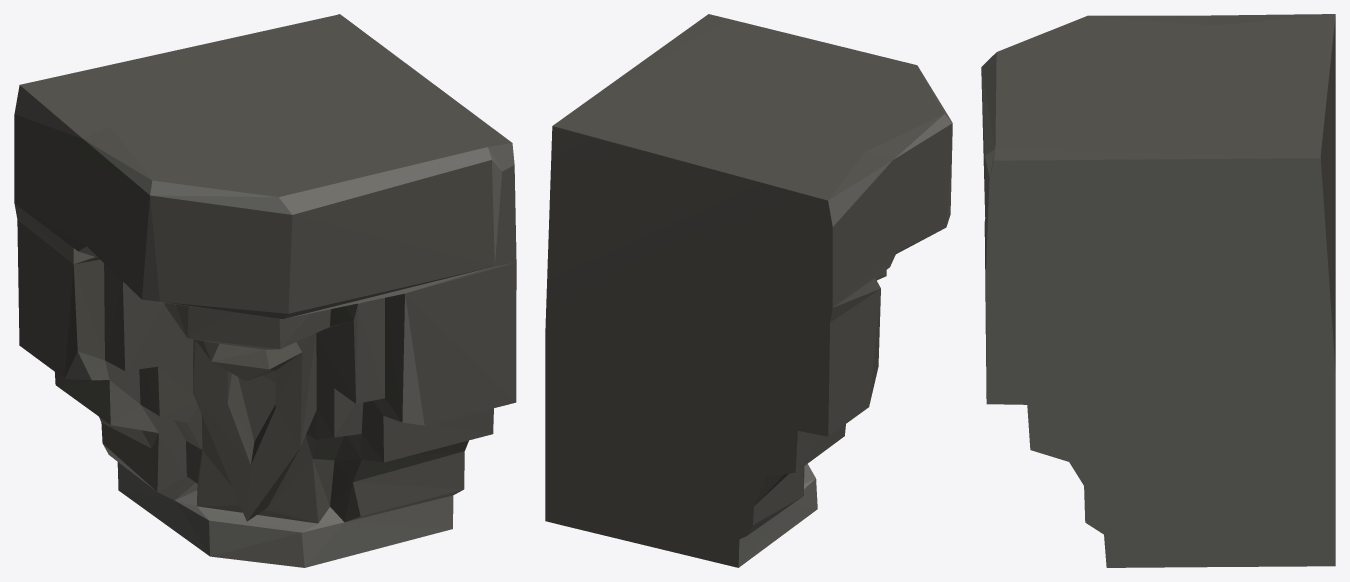
Rendered from MDungeon_PillarSmall_Top_Quater.FBX.
The picture shows the model from 3 angles, left to right: view 1: azimuth 30°, elevation 25°; view 2: azimuth 150°, elevation 25°; view 3: azimuth 270°, elevation 25°; orthographic projection. The views are drawn at different scales.
Parts seen in each view (by area): view 1: MDungeon_PillarSmall_Top_Quater_LOD0; view 2: MDungeon_PillarSmall_Top_Quater_LOD0; view 3: MDungeon_PillarSmall_Top_Quater_LOD0.
Boxes of the visible parts, <box> form: MDungeon_PillarSmall_Top_Quater_LOD0: <box>14,14,516,567</box>; MDungeon_PillarSmall_Top_Quater_LOD0: <box>545,14,952,567</box>; MDungeon_PillarSmall_Top_Quater_LOD0: <box>981,14,1335,567</box>.
Size of what is drawn, in the model's own units: 1.52 by 1.97 by 1.54.
